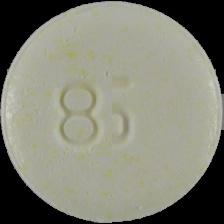13668-086: (0, 0, 224, 224)
